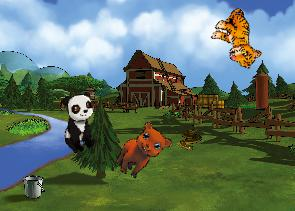bear: (111, 117, 175, 187)
panda: (60, 91, 98, 154)
tiger: (204, 3, 274, 72)
